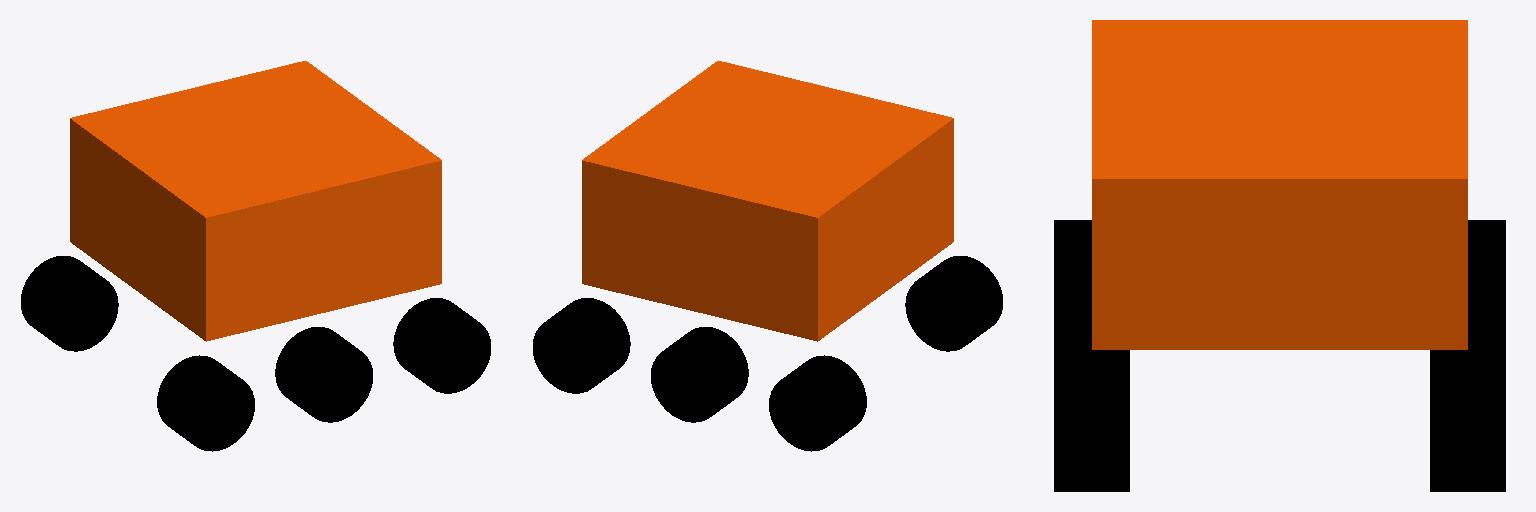
URDF robot description (drives):
<?xml version="1.0" ?>
<!-- =================================================================================== -->
<!-- |    This document was autogenerated by xacro from drives.urdf.xacro              | -->
<!-- |    EDITING THIS FILE BY HAND IS NOT RECOMMENDED                                 | -->
<!-- =================================================================================== -->
<robot name="drives">
  <material name="black">
    <color rgba="0.0 0.0 0.0 1.0"/>
  </material>
  <material name="blue">
    <color rgba="0.0 0.0 0.8 1.0"/>
  </material>
  <material name="green">
    <color rgba="0.0 0.8 0.0 1.0"/>
  </material>
  <material name="grey">
    <color rgba="0.2 0.2 0.2 1.0"/>
  </material>
  <material name="orange">
    <color rgba="1.0 0.4235294117647059 0.0392156862745098 1.0"/>
  </material>
  <material name="brown">
    <color rgba="0.8705882352941177 0.8117647058823529 0.7647058823529411 1.0"/>
  </material>
  <material name="red">
    <color rgba="0.8 0.0 0.0 1.0"/>
  </material>
  <material name="white">
    <color rgba="1.0 1.0 1.0 1.0"/>
  </material>
  <!-- Space btw top of beam and the each joint -->
  <!-- Base Link -->
  <link name="base_link">
    <collision>
      <origin rpy="0 0 0" xyz="0 0 0"/>
      <geometry>
        <box size="0.1 0.1 0.05"/>
      </geometry>
    </collision>
    <visual>
      <origin rpy="0 0 0" xyz="0 0 0.025"/>
      <geometry>
        <box size="0.1 0.1 0.05"/>
      </geometry>
      <material name="orange"/>
    </visual>
    <inertial>
      <origin rpy="0 0 0" xyz="0 0 0"/>
      <mass value="0.3"/>
      <inertia ixx="0.00031250000000000006" ixy="0.0" ixz="0.0" iyy="0.00031250000000000006" iyz="0.0" izz="0.0005"/>
    </inertial>
  </link>
  <joint name="left_front_joint" type="continuous">
    <parent link="base_link"/>
    <child link="left_front"/>
    <origin rpy="0 0 0" xyz="0.05 -0.05 -0.025"/>
    <axis xyz="0 1 0"/>
    <dynamics damping="0.2"/>
  </joint>
  <link name="left_front">
    <collision>
      <origin rpy="1.5707963267948966 0 0" xyz="0 0 0"/>
      <geometry>
        <cylinder length="0.02" radius="0.015"/>
      </geometry>
    </collision>
    <visual>
      <origin rpy="1.5707963267948966 0 0" xyz="0 0 0"/>
      <geometry>
        <cylinder length="0.02" radius="0.015"/>
      </geometry>
      <material name="black"/>
    </visual>
    <inertial>
      <origin rpy="1.5707963267948966 0 0" xyz="0 0 0"/>
      <mass value="0.3"/>
      <inertia ixx="0.0011349999999999997" ixy="0.0" ixz="0.0" iyy="5.6249999999999995e-06" iyz="0.0" izz="5.6249999999999995e-06"/>
    </inertial>
  </link>
  <joint name="left_mid_joint" type="continuous">
    <parent link="base_link"/>
    <child link="left_mid"/>
    <origin rpy="0 0 0" xyz="0 -0.05 -0.025"/>
    <axis xyz="0 1 0"/>
    <dynamics damping="0.2"/>
  </joint>
  <link name="left_mid">
    <collision>
      <origin rpy="1.5707963267948966 0 0" xyz="0 0 0"/>
      <geometry>
        <cylinder length="0.02" radius="0.015"/>
      </geometry>
    </collision>
    <visual>
      <origin rpy="1.5707963267948966 0 0" xyz="0 0 0"/>
      <geometry>
        <cylinder length="0.02" radius="0.015"/>
      </geometry>
      <material name="black"/>
    </visual>
    <inertial>
      <origin rpy="1.5707963267948966 0 0" xyz="0 0 0"/>
      <mass value="0.3"/>
      <inertia ixx="0.0011349999999999997" ixy="0.0" ixz="0.0" iyy="5.6249999999999995e-06" iyz="0.0" izz="5.6249999999999995e-06"/>
    </inertial>
  </link>
  <joint name="left_back_joint" type="continuous">
    <parent link="base_link"/>
    <child link="left_back"/>
    <origin rpy="0 0 0" xyz="-0.05 -0.05 -0.025"/>
    <axis xyz="0 1 0"/>
    <dynamics damping="0.2"/>
  </joint>
  <link name="left_back">
    <collision>
      <origin rpy="1.5707963267948966 0 0" xyz="0 0 0"/>
      <geometry>
        <cylinder length="0.02" radius="0.015"/>
      </geometry>
    </collision>
    <visual>
      <origin rpy="1.5707963267948966 0 0" xyz="0 0 0"/>
      <geometry>
        <cylinder length="0.02" radius="0.015"/>
      </geometry>
      <material name="black"/>
    </visual>
    <inertial>
      <origin rpy="1.5707963267948966 0 0" xyz="0 0 0"/>
      <mass value="0.3"/>
      <inertia ixx="0.0011349999999999997" ixy="0.0" ixz="0.0" iyy="5.6249999999999995e-06" iyz="0.0" izz="5.6249999999999995e-06"/>
    </inertial>
  </link>
  <joint name="right_front_joint" type="continuous">
    <parent link="base_link"/>
    <child link="right_front"/>
    <origin rpy="0 0 0" xyz="0.05 0.05 -0.025"/>
    <axis xyz="0 1 0"/>
    <dynamics damping="0.2"/>
  </joint>
  <link name="right_front">
    <collision>
      <origin rpy="1.5707963267948966 0 0" xyz="0 0 0"/>
      <geometry>
        <cylinder length="0.02" radius="0.015"/>
      </geometry>
    </collision>
    <visual>
      <origin rpy="1.5707963267948966 0 0" xyz="0 0 0"/>
      <geometry>
        <cylinder length="0.02" radius="0.015"/>
      </geometry>
      <material name="black"/>
    </visual>
    <inertial>
      <origin rpy="1.5707963267948966 0 0" xyz="0 0 0"/>
      <mass value="0.3"/>
      <inertia ixx="0.0011349999999999997" ixy="0.0" ixz="0.0" iyy="5.6249999999999995e-06" iyz="0.0" izz="5.6249999999999995e-06"/>
    </inertial>
  </link>
  <joint name="right_mid_joint" type="continuous">
    <parent link="base_link"/>
    <child link="right_mid"/>
    <origin rpy="0 0 0" xyz="0 0.05 -0.025"/>
    <axis xyz="0 1 0"/>
    <dynamics damping="0.2"/>
  </joint>
  <link name="right_mid">
    <collision>
      <origin rpy="1.5707963267948966 0 0" xyz="0 0 0"/>
      <geometry>
        <cylinder length="0.02" radius="0.015"/>
      </geometry>
    </collision>
    <visual>
      <origin rpy="1.5707963267948966 0 0" xyz="0 0 0"/>
      <geometry>
        <cylinder length="0.02" radius="0.015"/>
      </geometry>
      <material name="black"/>
    </visual>
    <inertial>
      <origin rpy="1.5707963267948966 0 0" xyz="0 0 0"/>
      <mass value="0.3"/>
      <inertia ixx="0.0011349999999999997" ixy="0.0" ixz="0.0" iyy="5.6249999999999995e-06" iyz="0.0" izz="5.6249999999999995e-06"/>
    </inertial>
  </link>
  <joint name="right_back_joint" type="continuous">
    <parent link="base_link"/>
    <child link="right_back"/>
    <origin rpy="0 0 0" xyz="-0.05 0.05 -0.025"/>
    <axis xyz="0 1 0"/>
    <dynamics damping="0.2"/>
  </joint>
  <link name="right_back">
    <collision>
      <origin rpy="1.5707963267948966 0 0" xyz="0 0 0"/>
      <geometry>
        <cylinder length="0.02" radius="0.015"/>
      </geometry>
    </collision>
    <visual>
      <origin rpy="1.5707963267948966 0 0" xyz="0 0 0"/>
      <geometry>
        <cylinder length="0.02" radius="0.015"/>
      </geometry>
      <material name="black"/>
    </visual>
    <inertial>
      <origin rpy="1.5707963267948966 0 0" xyz="0 0 0"/>
      <mass value="0.3"/>
      <inertia ixx="0.0011349999999999997" ixy="0.0" ixz="0.0" iyy="5.6249999999999995e-06" iyz="0.0" izz="5.6249999999999995e-06"/>
    </inertial>
  </link>
  <ros2_control name="drives" type="system">
    <hardware>
      <plugin>cmr_control/DrivesSystemHardware</plugin>
    </hardware>
    <joint name="left_front_joint">
      <command_interface name="velocity"/>
      <state_interface name="position"/>
      <state_interface name="velocity"/>
    </joint>
    <joint name="left_mid_joint">
      <command_interface name="velocity"/>
      <state_interface name="position"/>
      <state_interface name="velocity"/>
    </joint>
    <joint name="left_back_joint">
      <command_interface name="velocity"/>
      <state_interface name="position"/>
      <state_interface name="velocity"/>
    </joint>
    <joint name="right_front_joint">
      <command_interface name="velocity"/>
      <state_interface name="position"/>
      <state_interface name="velocity"/>
    </joint>
    <joint name="right_mid_joint">
      <command_interface name="velocity"/>
      <state_interface name="position"/>
      <state_interface name="velocity"/>
    </joint>
    <joint name="right_back_joint">
      <command_interface name="velocity"/>
      <state_interface name="position"/>
      <state_interface name="velocity"/>
    </joint>
  </ros2_control>
  <!-- camera -->
  <gazebo reference="base_link">
    <sensor name="camera1" type="camera">
      <update_rate>30.0</update_rate>
      <camera name="head">
        <horizontal_fov>1.3962634</horizontal_fov>
        <image>
          <width>800</width>
          <height>800</height>
          <format>R8G8B8</format>
        </image>
        <clip>
          <near>0.02</near>
          <far>300</far>
        </clip>
        <noise>
          <type>gaussian</type>
          <mean>0.0</mean>
          <stddev>0.007</stddev>
        </noise>
      </camera>
      <plugin filename="libignition-gazebo-ros-camera.so" name="camera_controller">
        <alwaysOn>true</alwaysOn>
        <updateRate>0.0</updateRate>
        <cameraName>rrbot/camera1</cameraName>
        <imageTopicName>image_raw</imageTopicName>
        <cameraInfoTopicName>camera_info</cameraInfoTopicName>
        <frameName>base_link</frameName>
        <hackBaseline>0.07</hackBaseline>
        <distortionK1>0.0</distortionK1>
        <distortionK2>0.0</distortionK2>
        <distortionK3>0.0</distortionK3>
        <distortionT1>0.0</distortionT1>
        <distortionT2>0.0</distortionT2>
      </plugin>
    </sensor>
  </gazebo>
</robot>

--- Render facts (derived) ---
The picture shows the robot from 3 angles, left to right: view 1: azimuth 30°, elevation 25°; view 2: azimuth 150°, elevation 25°; view 3: azimuth 270°, elevation 25°; orthographic projection.
Model drives with 7 links and 6 joints (6 continuous), rooted at base_link, posed every joint at zero.
Visible links, largest first — view 1: base_link, left_back, left_mid, left_front, right_back; view 2: base_link, right_back, right_mid, right_front, left_back; view 3: base_link, left_front, right_front, left_mid, right_mid, left_back, right_back.
Link boxes in pixels (<box>): base_link: <box>70,61,441,341</box>; left_back: <box>157,355,254,451</box>; left_mid: <box>275,327,372,422</box>; left_front: <box>393,298,490,393</box>; right_back: <box>21,256,118,351</box>; base_link: <box>582,61,953,341</box>; right_back: <box>769,355,866,451</box>; right_mid: <box>651,327,748,422</box>; right_front: <box>533,298,630,393</box>; left_back: <box>905,256,1002,351</box>; base_link: <box>1092,20,1467,349</box>; left_front: <box>1054,379,1129,491</box>; right_front: <box>1430,379,1505,491</box>; left_mid: <box>1054,299,1129,378</box>; right_mid: <box>1430,299,1505,378</box>; left_back: <box>1054,220,1091,298</box>; right_back: <box>1468,220,1505,298</box>.
Size in the robot's own frame: 0.13 by 0.12 by 0.09 metres.
Geometry: primitives only (box / cylinder / sphere), no mesh files.
